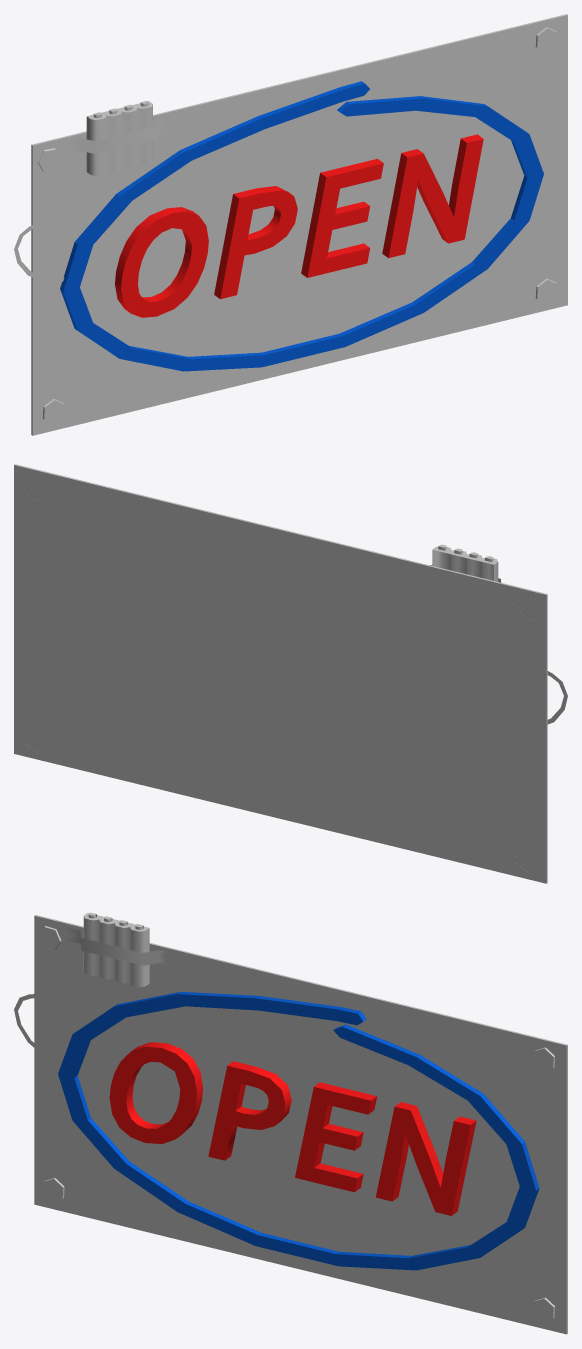
Rendered from Neon Open.FBX.
The picture shows the model from 3 angles, top to bottom: view 1: azimuth 30°, elevation 25°; view 2: azimuth 150°, elevation 25°; view 3: azimuth 330°, elevation 25°; orthographic projection.
Visible parts, largest first — view 1: Neon Open Base_LOD0, Neon Open_LOD0; view 2: Neon Open Base_LOD0; view 3: Neon Open Base_LOD0, Neon Open_LOD0.
Boxes of the visible parts, x1,y1,x2,y2 form: Neon Open Base_LOD0: [14, 14, 567, 435]; Neon Open_LOD0: [60, 81, 543, 371]; Neon Open Base_LOD0: [14, 464, 567, 883]; Neon Open Base_LOD0: [14, 912, 567, 1334]; Neon Open_LOD0: [58, 991, 539, 1270].
Size of what is drawn, in the model's own units: 52.41 by 27.93 by 1.43.
